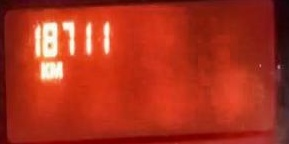1: (80, 18, 93, 56), (30, 20, 42, 60), (99, 16, 111, 54)
7: (60, 15, 77, 53)
8: (40, 16, 57, 61)
X: (50, 58, 63, 78), (39, 60, 50, 80)
